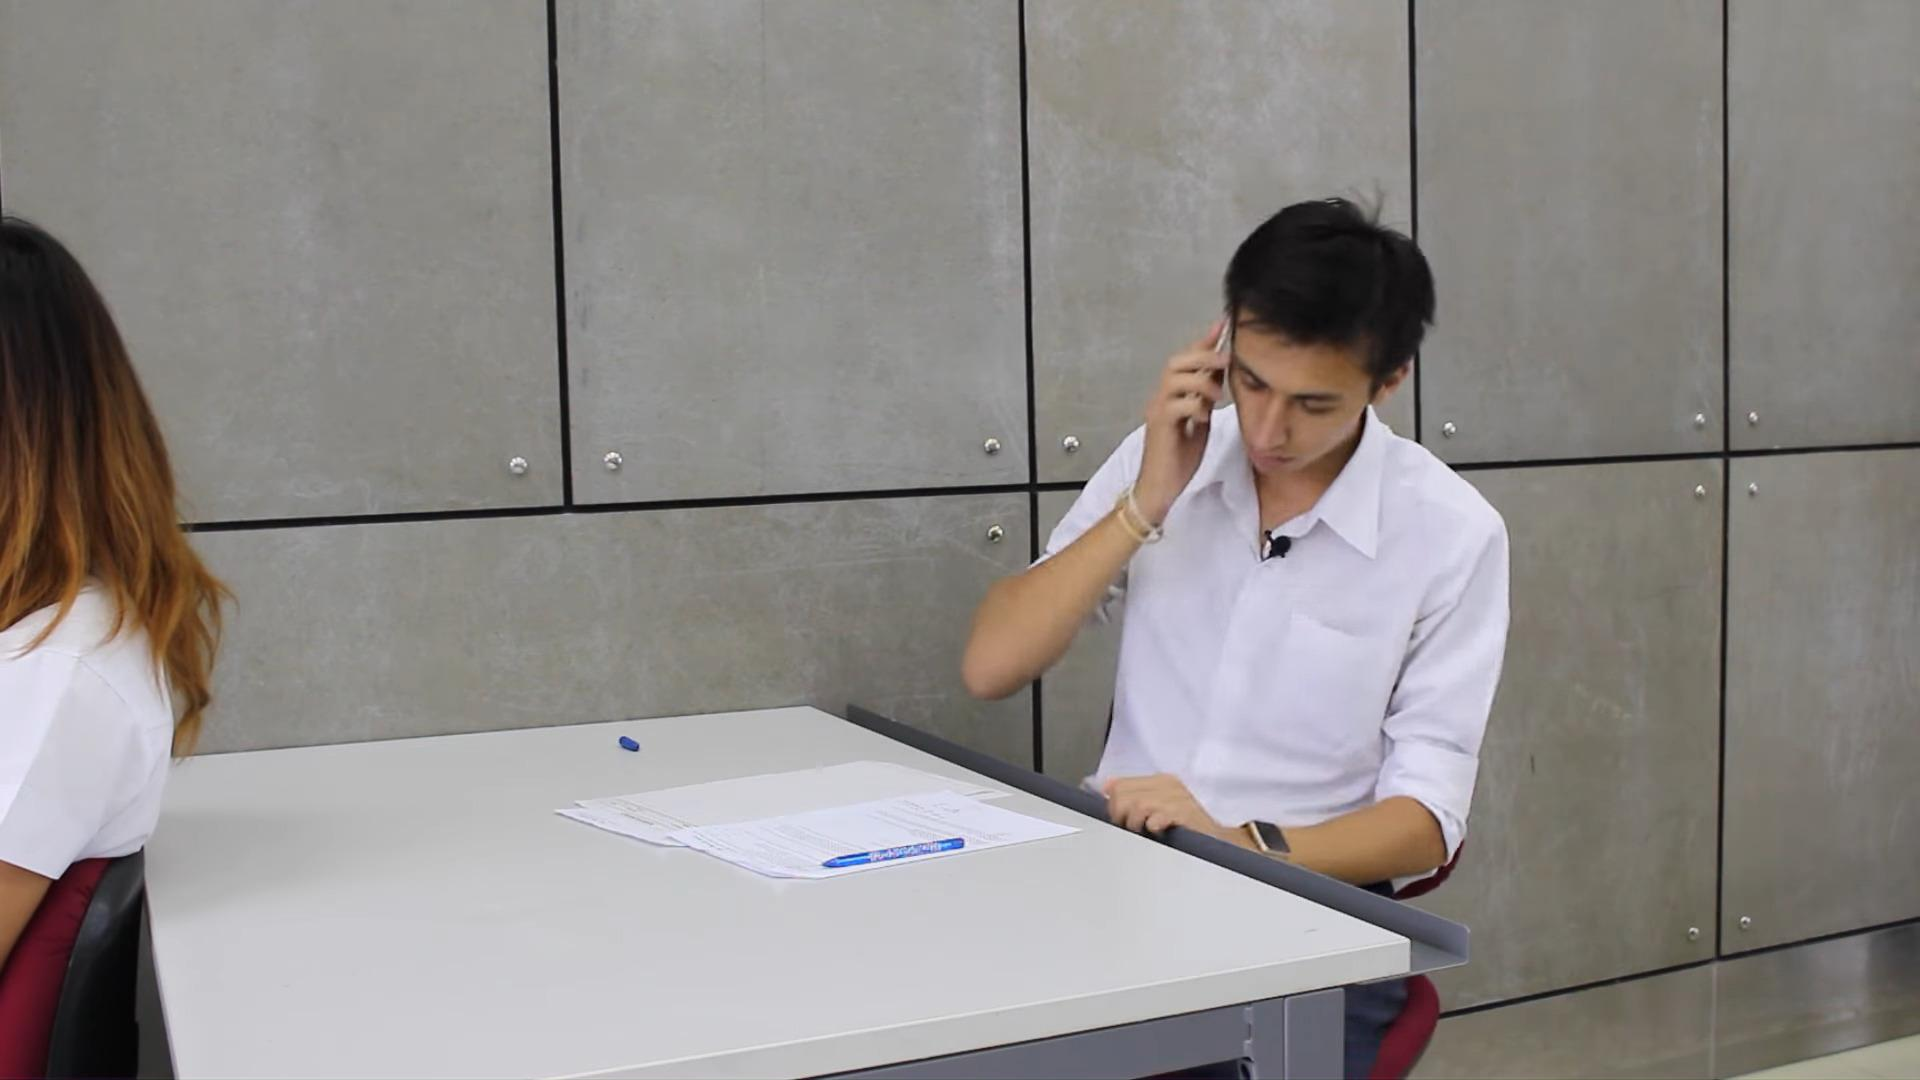cheating: (485, 161, 1518, 940)
